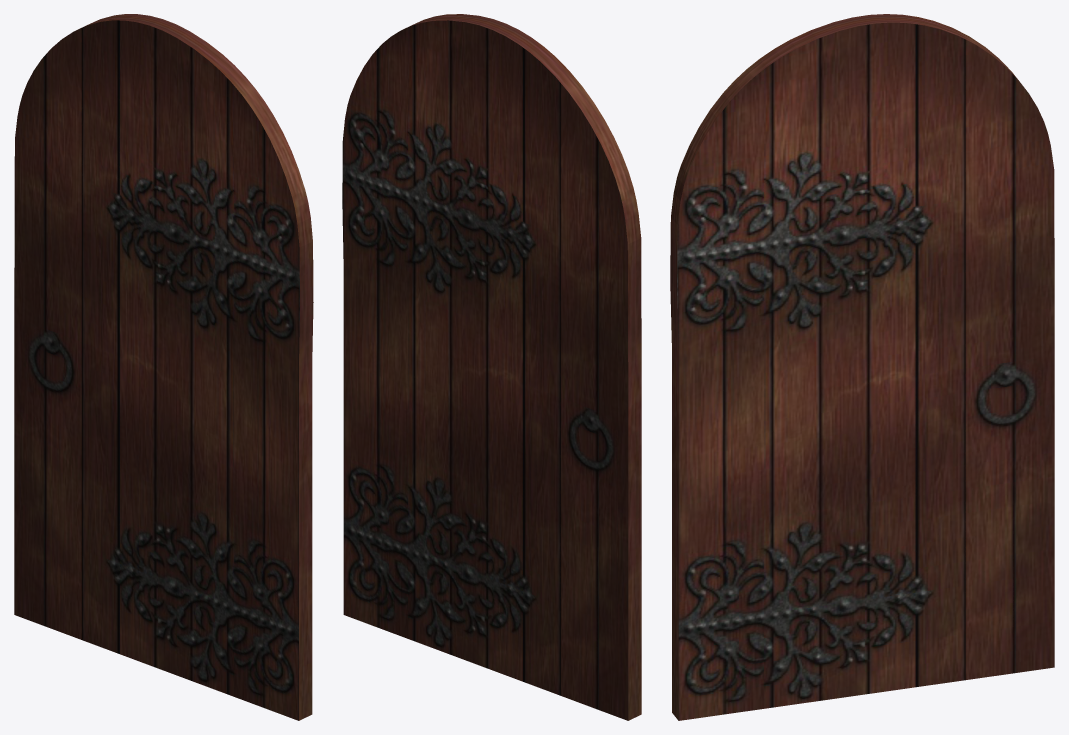
Rendered from door 21.obj.
3 views of the same model, side by side, from view 1: azimuth 30°, elevation 25°; view 2: azimuth 210°, elevation 25°; view 3: azimuth 270°, elevation 25° (orthographic). The views are drawn at different scales.
Visible parts, largest first — view 1: door_10:Mesh; view 2: door_10:Mesh; view 3: door_10:Mesh.
Boxes of the visible parts, left/top/right/bottom form: door_10:Mesh: left=14, top=14, right=313, bottom=720; door_10:Mesh: left=342, top=14, right=641, bottom=720; door_10:Mesh: left=670, top=14, right=1054, bottom=720.
Size of the model in its own units: 23.87 by 120 by 62.38.
Materials: 1 (1 with a texture image).
